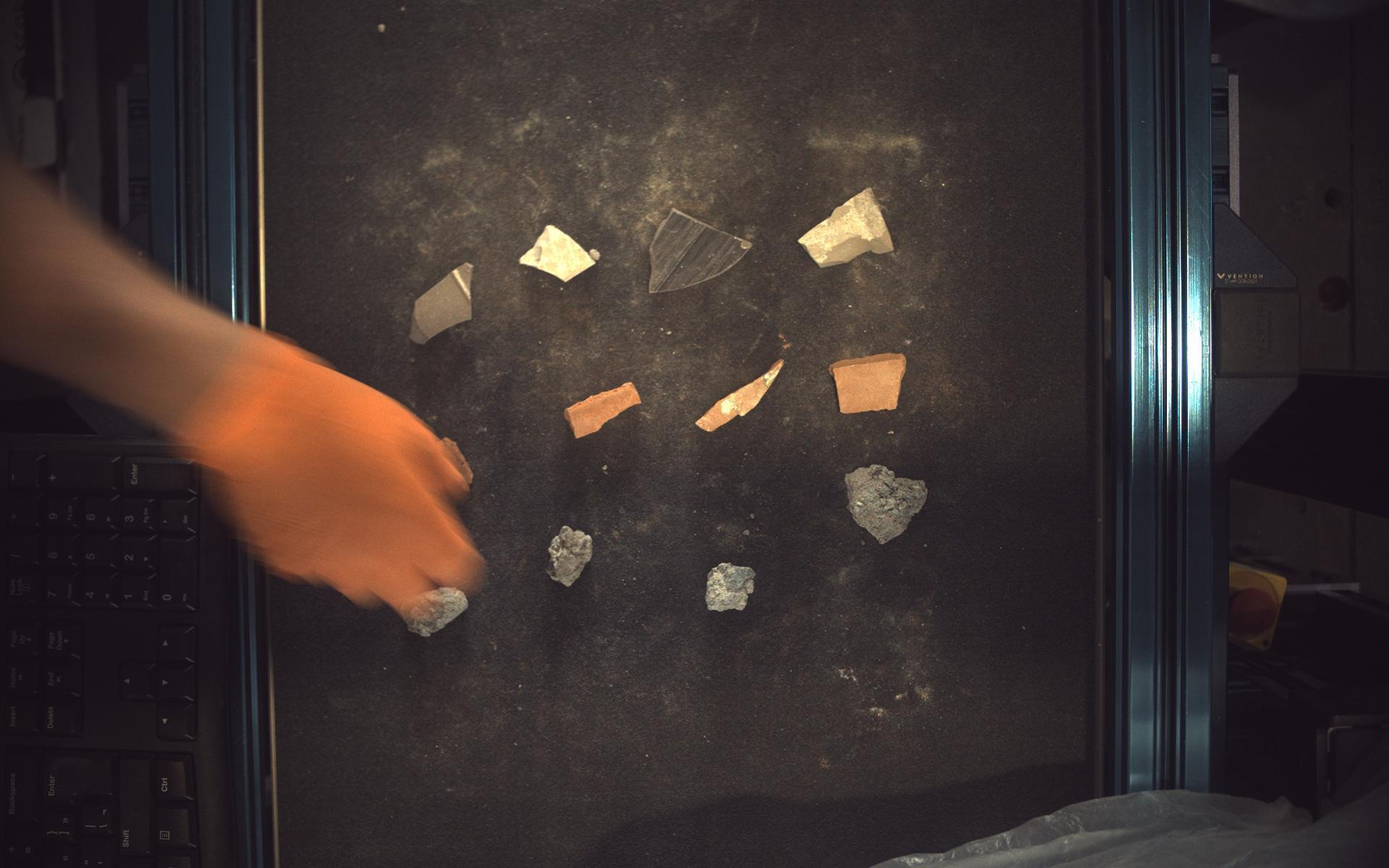brick: (697, 359, 786, 432), (831, 354, 908, 414), (564, 382, 642, 438)
concrete: (846, 464, 930, 545), (396, 588, 468, 638), (547, 526, 593, 587), (707, 563, 756, 612)
tile: (650, 209, 753, 293), (800, 187, 895, 267), (409, 263, 474, 344), (520, 224, 595, 281)
